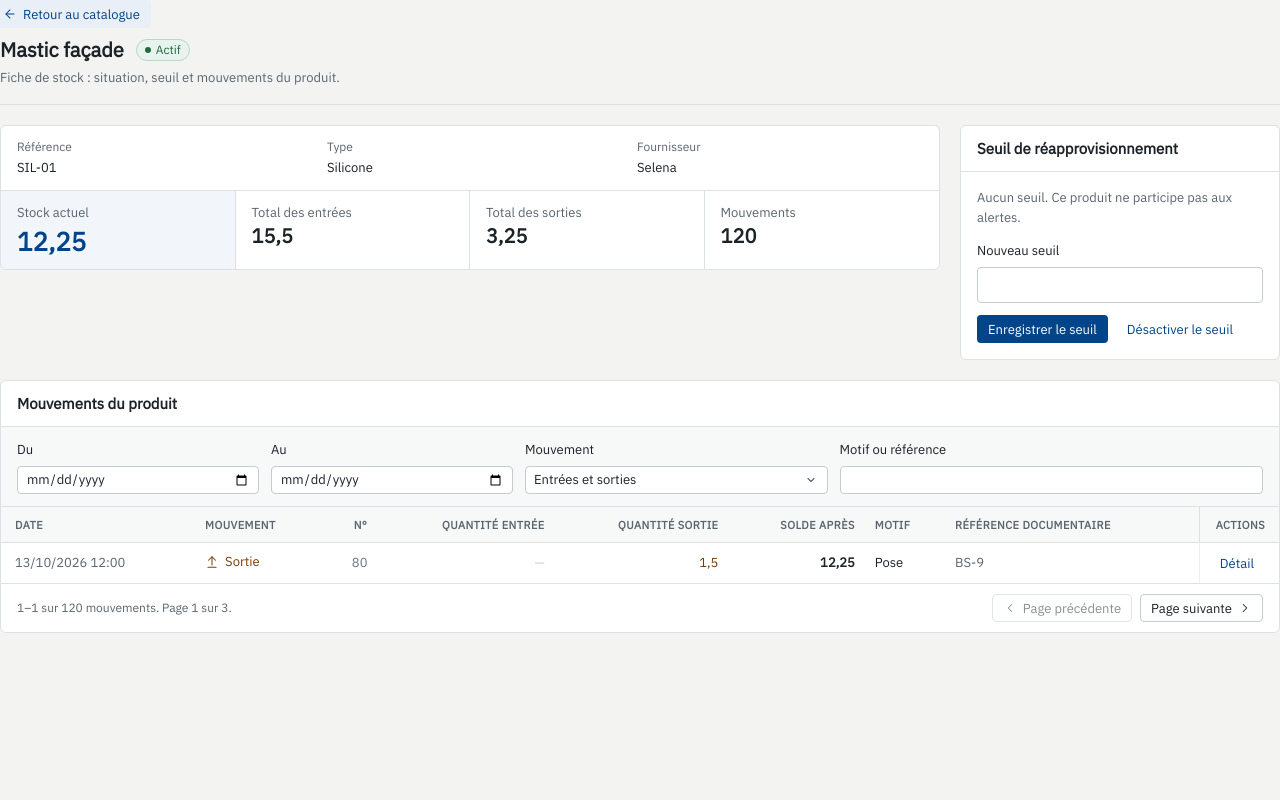
Test: fiche de stock › affiche les statistiques, les soldes et le format français
Expected: the heading "Mastic façade" is shown, [0,36,124,64]
Expected: the text "SIL-01" is shown, [17,159,56,176]
Click the button "Détail". click: (1237, 563)
box: [1209,549,1265,577]
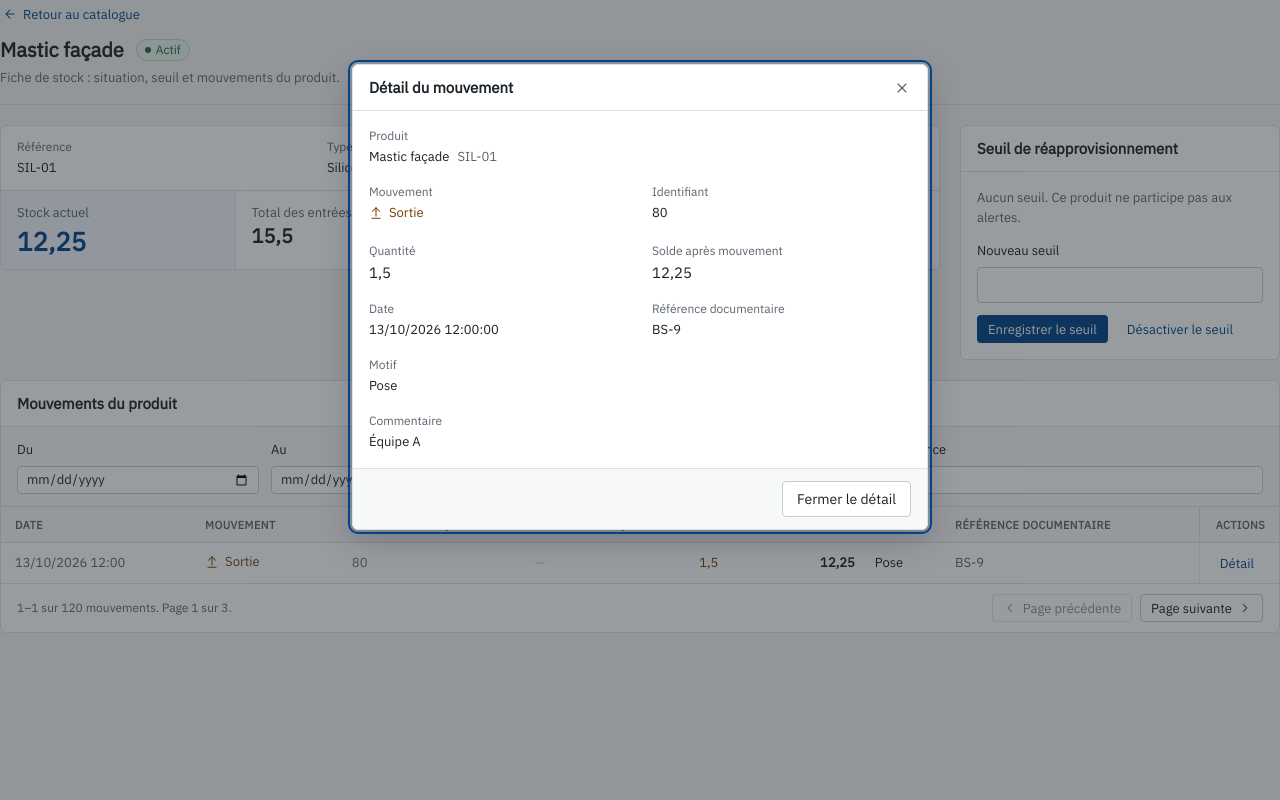
Expected: the text "Équipe A" is shown, [369,433,421,450]
Expected: the text "Solde après mouvement" is shown, [652,243,783,258]
